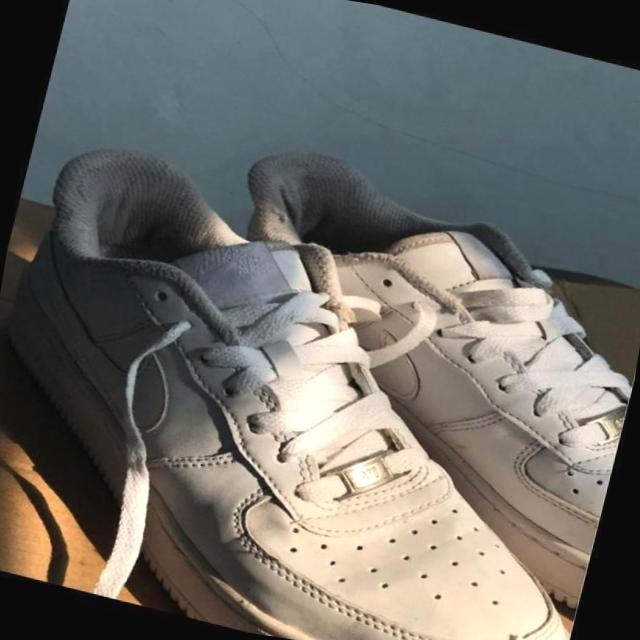nike_fake_airforce: (0, 165, 640, 640), (146, 153, 640, 626)
